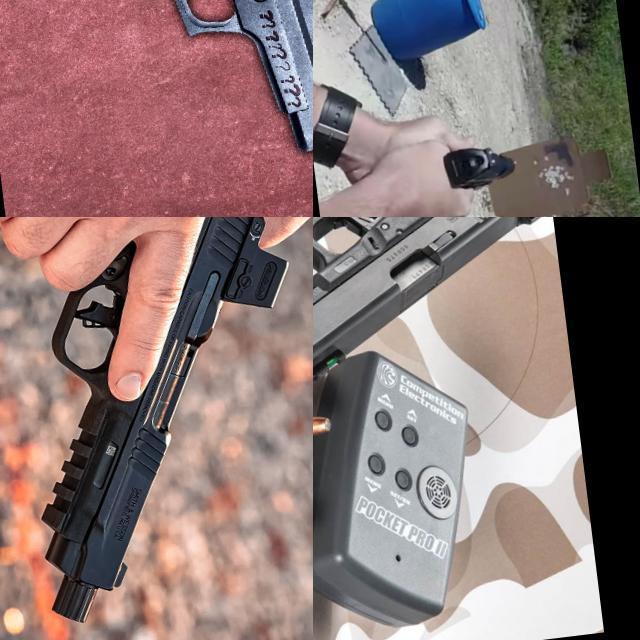handgun: (0, 217, 313, 639), (0, 0, 313, 217), (313, 217, 567, 397), (439, 140, 521, 194)
